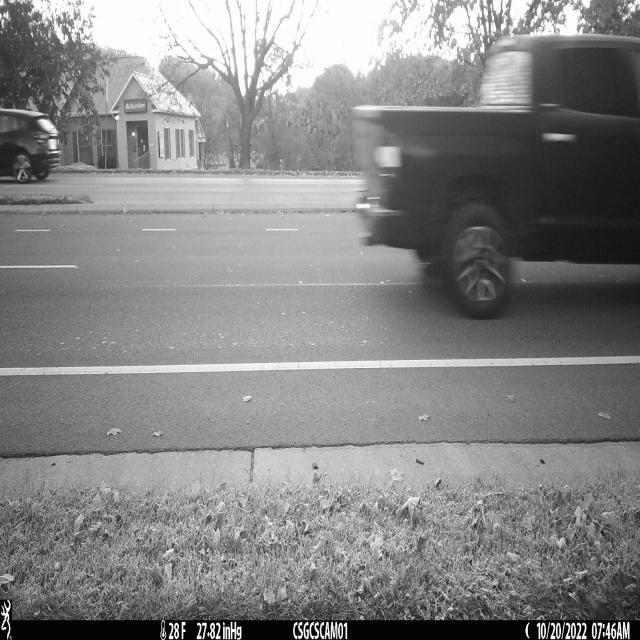Pickup: (353, 34, 640, 320)
